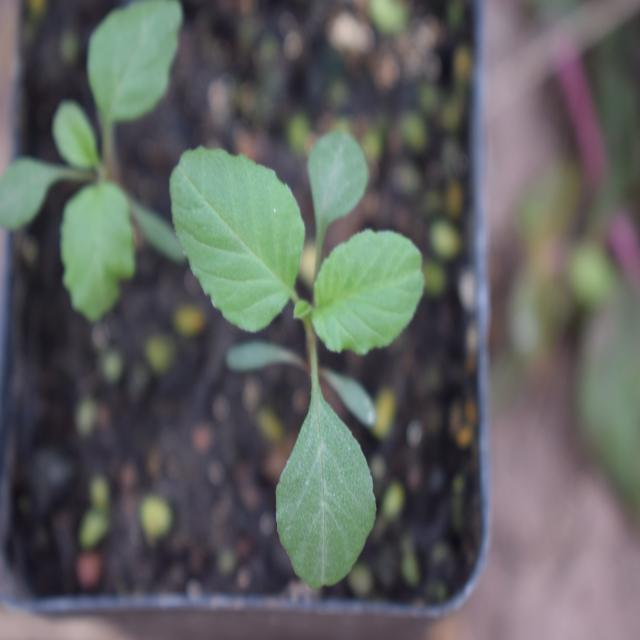pigweed: (159, 138, 417, 584)
